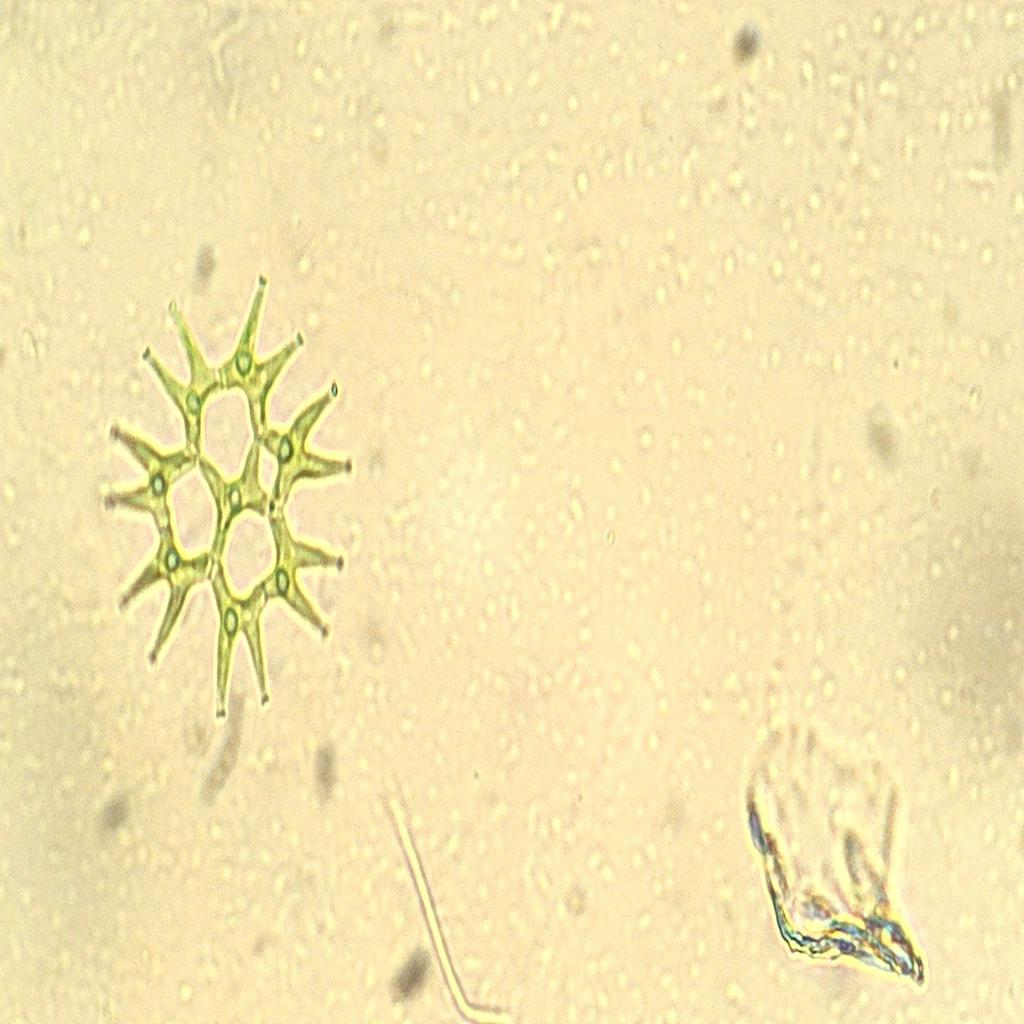Pediastrum_75T: (98, 258, 365, 737)
